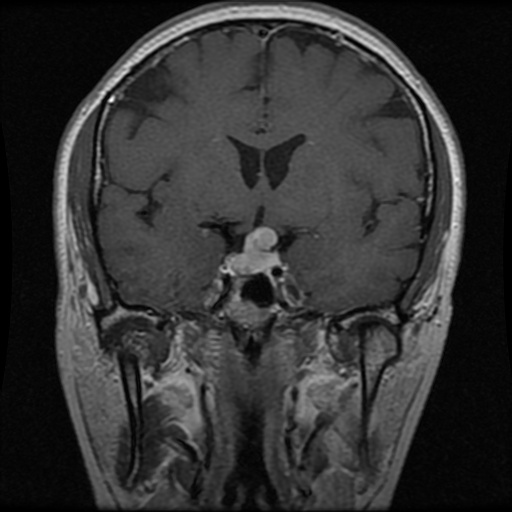pituitary: (227, 226, 280, 276)
